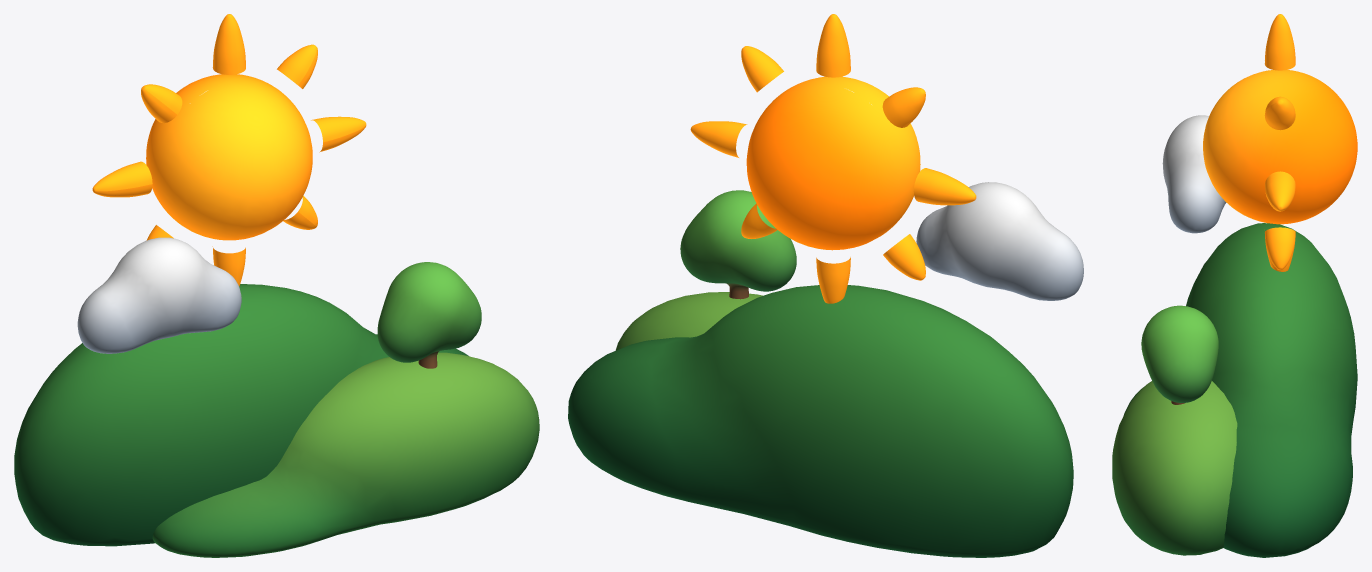
The model's file is noon.glb.
3 views of the same model, side by side, from view 1: azimuth 30°, elevation 25°; view 2: azimuth 150°, elevation 25°; view 3: azimuth 270°, elevation 25° (orthographic). The views are drawn at different scales.
Visible parts, largest first — view 1: hill-back+hill-front, sun-core, cloud, tree, sun-ray; view 2: hill-back+hill-front, sun-core, cloud, sun-ray, tree; view 3: hill-back+hill-front, sun-core, tree, cloud, sun-ray.
Boxes of the visible parts, x1,y1,x2,y2 form: hill-back+hill-front: (14,284,539,557); sun-core: (146,74,312,240); cloud: (77,237,241,353); tree: (377,262,481,368); sun-ray: (92,14,366,286); hill-back+hill-front: (568,285,1073,557); sun-core: (746,76,920,250); cloud: (916,182,1083,300); sun-ray: (690,14,976,303); tree: (680,190,796,299); hill-back+hill-front: (1112,223,1357,557); sun-core: (1203,70,1357,224); tree: (1141,305,1218,404); cloud: (1162,115,1226,233); sun-ray: (1264,14,1295,271).
Bounding box in the file's own units: 2.22 × 2.12 × 1.08.
